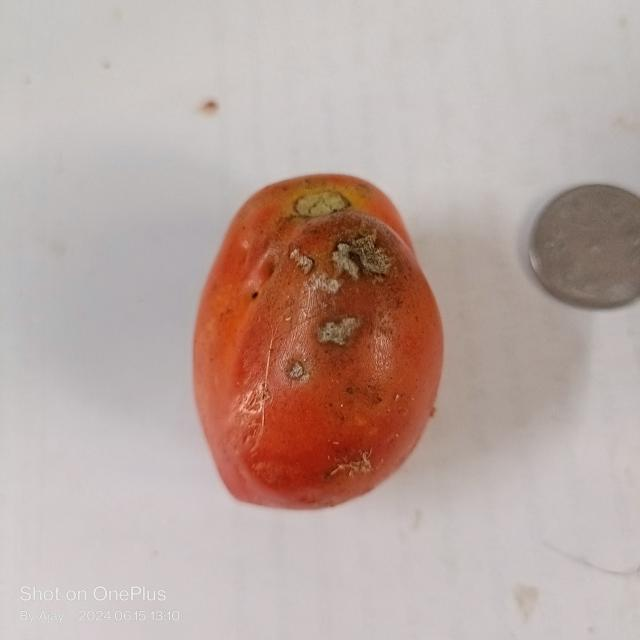Bacterial_Spot: (283, 218, 400, 388)
